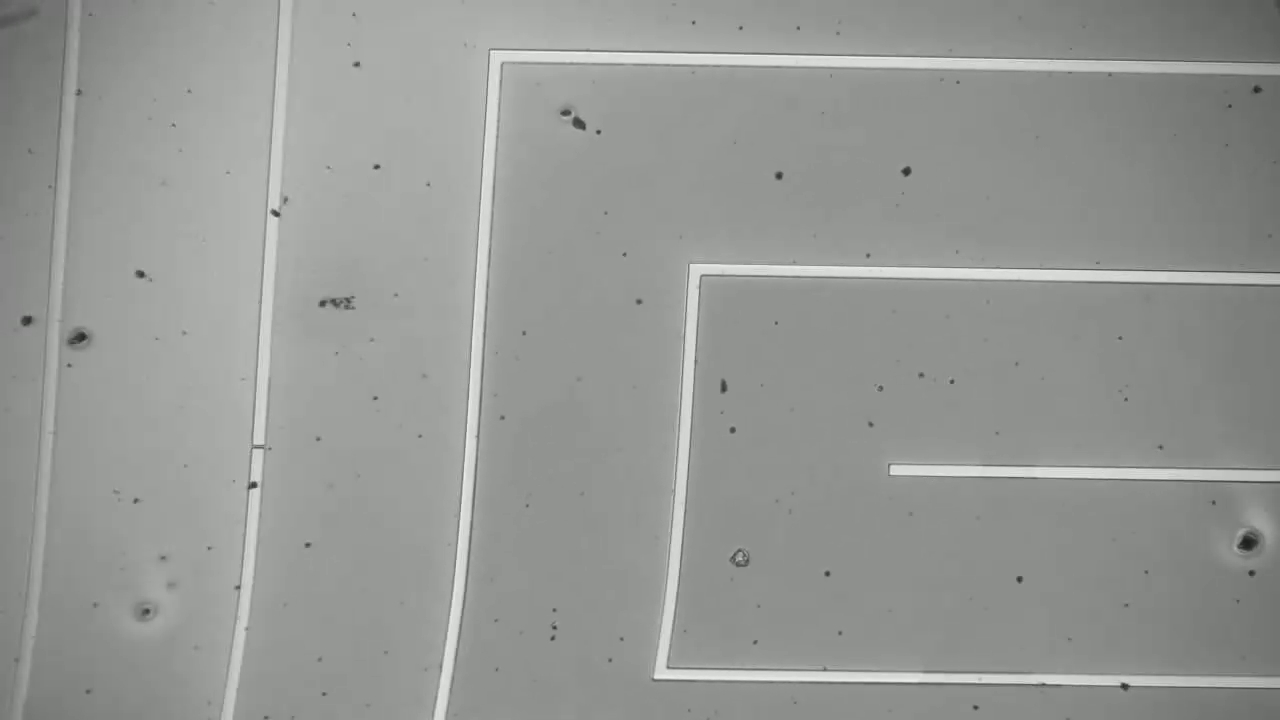open: (244, 431, 274, 457)
stains_enbedded: (259, 203, 284, 220), (243, 477, 264, 496)
